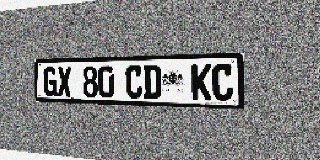0: (98, 66, 114, 98)
8: (83, 66, 98, 98)
C: (212, 64, 233, 101), (126, 65, 143, 99)
D: (143, 65, 161, 99)
G: (43, 67, 57, 96)
K: (192, 64, 211, 100)
X: (57, 67, 71, 97)
